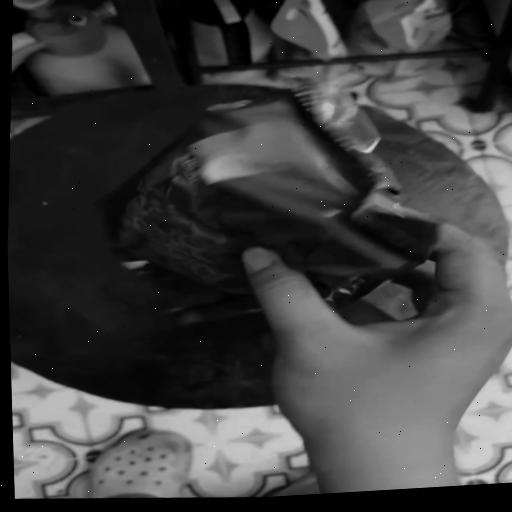cafe_xay: (102, 76, 437, 323)
